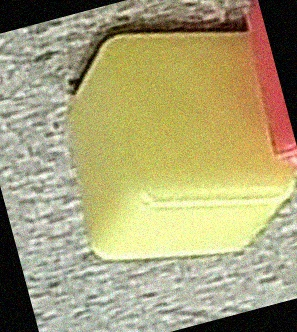yellow_cube: (61, 25, 297, 272)
